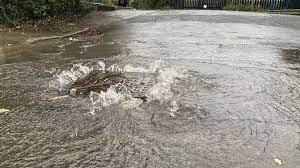drainage overflow-repair-: (31, 41, 201, 142)
